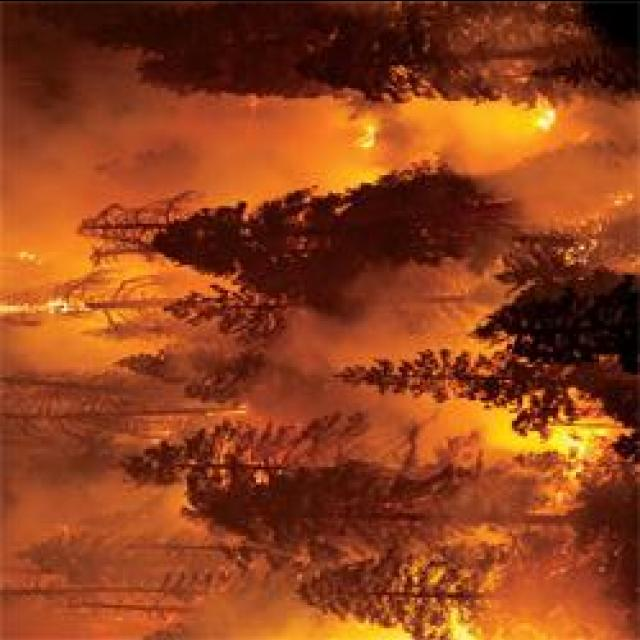smoke: (8, 98, 346, 186), (489, 571, 640, 640), (180, 581, 327, 640)
